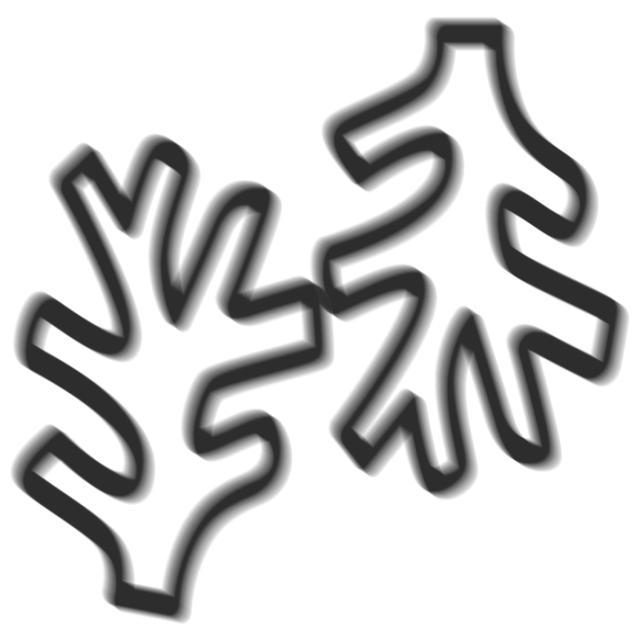coral: (6, 131, 342, 630), (308, 15, 638, 504)
